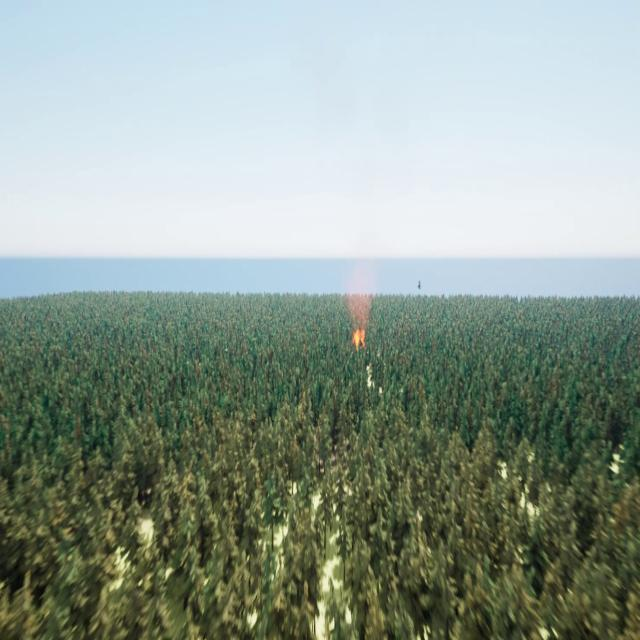fire: (352, 327, 366, 346)
smoke: (344, 264, 375, 326)
